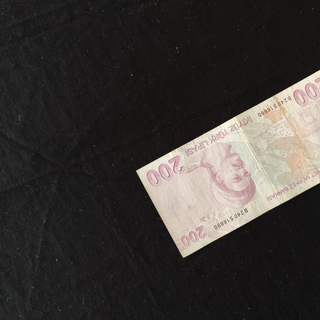200TLBack: (135, 65, 320, 258)
